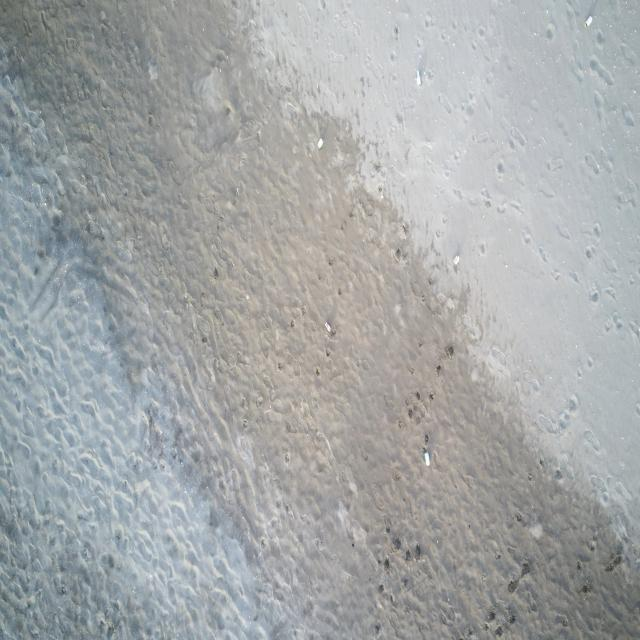tin-and-aluminum-cans: (584, 15, 594, 29), (415, 68, 422, 87), (454, 253, 461, 267), (424, 451, 430, 467), (324, 322, 332, 334), (317, 138, 323, 150)
